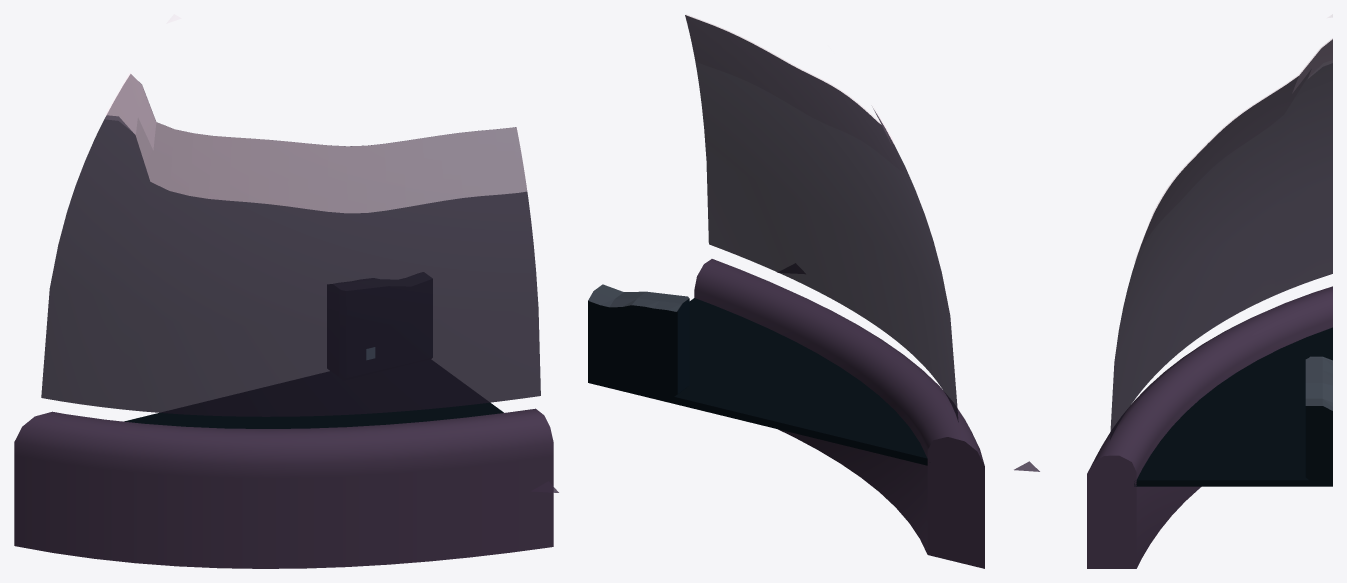
File: purple_dome_bl_wreck.glb
The picture shows the model from 3 angles, left to right: view 1: azimuth 30°, elevation 25°; view 2: azimuth 150°, elevation 25°; view 3: azimuth 270°, elevation 25°; orthographic projection. The views are drawn at different scales.
Parts seen in each view (by area): view 1: purple_dome_bl_wreck; view 2: purple_dome_bl_wreck; view 3: purple_dome_bl_wreck.
Boxes of the visible parts, x1,y1,x2,y2 form: purple_dome_bl_wreck: [14, 15, 558, 568]; purple_dome_bl_wreck: [588, 14, 984, 568]; purple_dome_bl_wreck: [1014, 15, 1332, 568].
Bounding box in the file's own units: 18.63 × 21.75 × 14.09.
